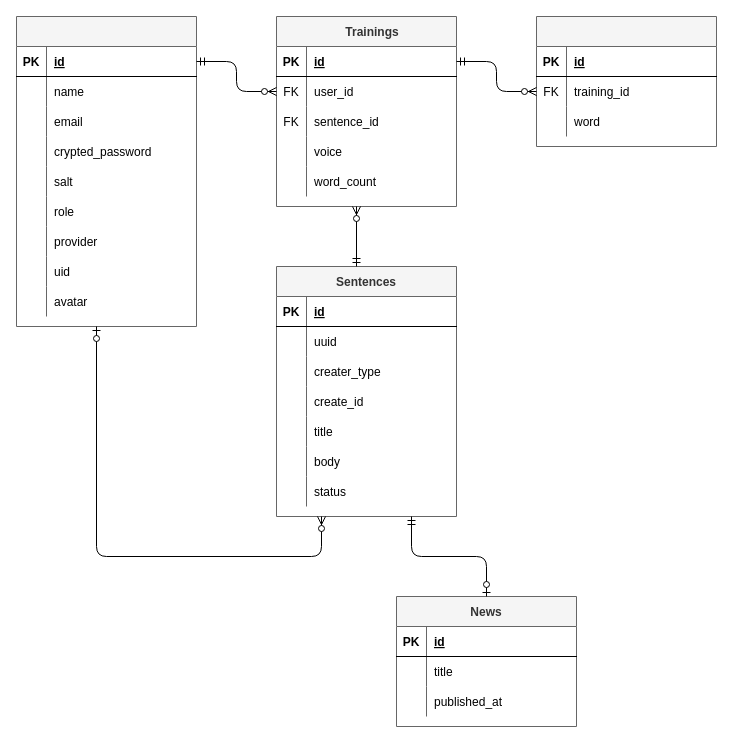
Image size: 733x743. Some labels were removed from this diagram. Here are the shapes that lost their labels. From the top down, the box of each, then its label:
(536, 16, 716, 146): Result_words
(16, 16, 196, 326): Users
